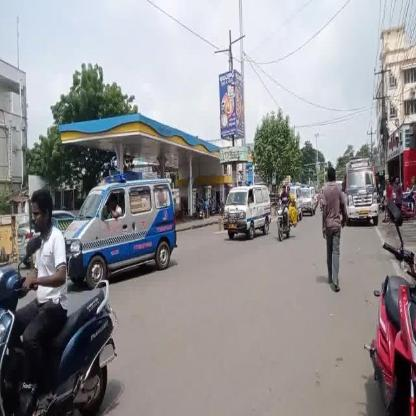priority: (64, 172, 174, 286), (343, 157, 380, 221)
